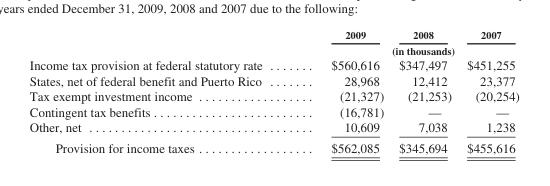table: (28, 28, 518, 154)
table column: (28, 28, 296, 154), (296, 28, 390, 154), (390, 28, 458, 154), (458, 28, 518, 154)
table column header: (28, 28, 518, 56)
table row: (28, 119, 518, 137), (28, 137, 518, 154), (28, 56, 518, 72), (28, 72, 518, 88), (28, 103, 518, 119), (28, 88, 518, 103), (28, 28, 518, 42), (28, 42, 518, 56)
table spanning cell: (296, 42, 518, 56)
